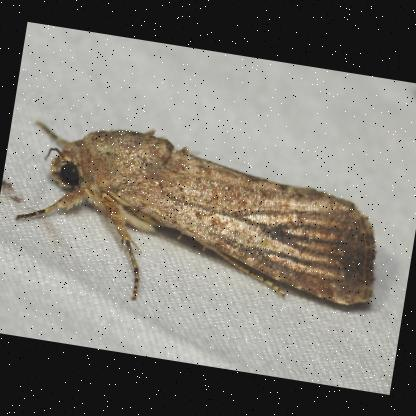Fall Armyworm Moth: (2, 105, 395, 340)
